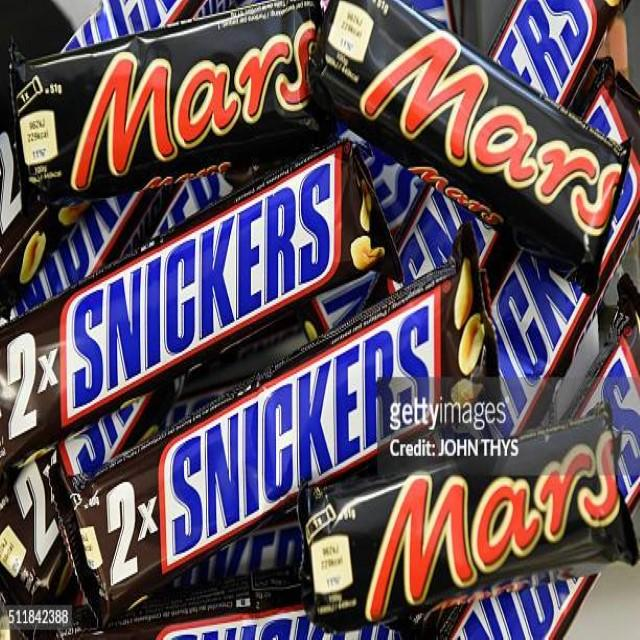mars_chocolate: (343, 11, 640, 246), (352, 423, 622, 630), (35, 13, 335, 187)
snickers_chocolate: (173, 313, 475, 562), (74, 164, 358, 394)
